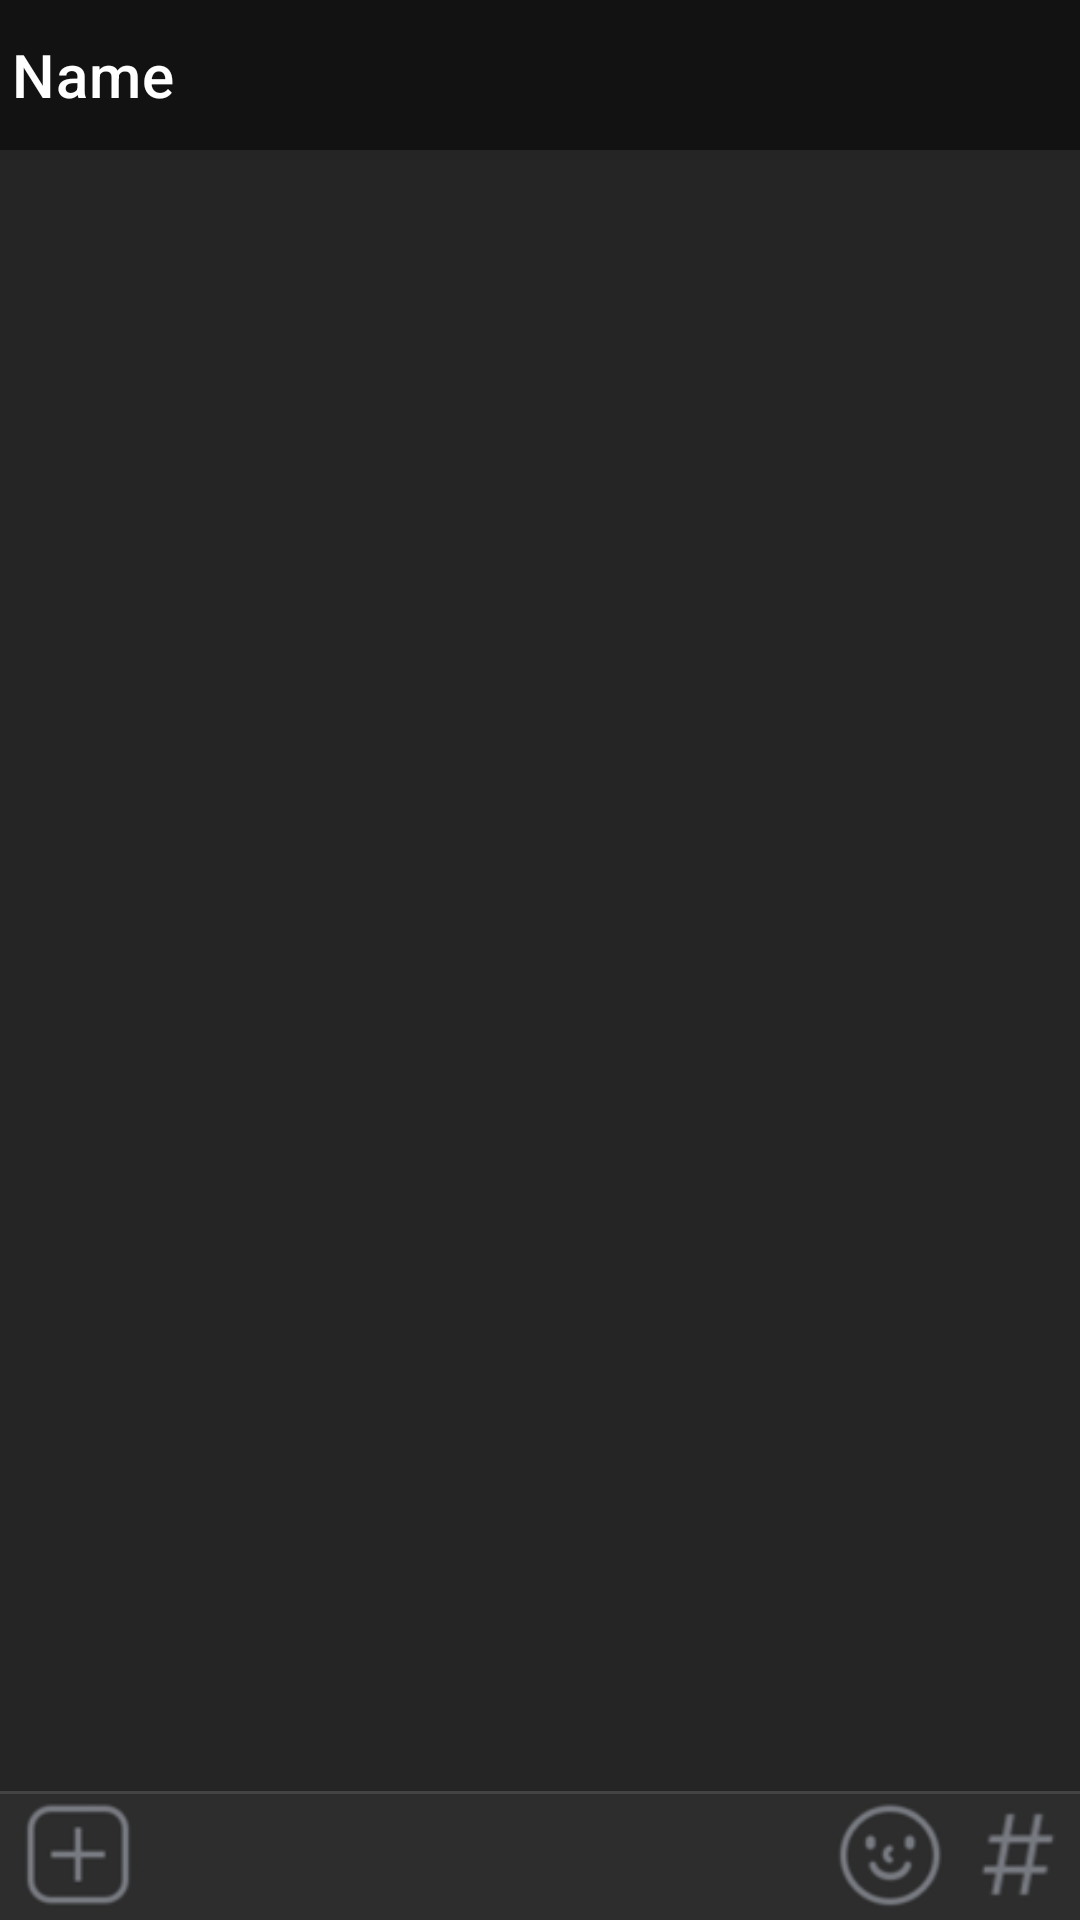

Named icons in this screenshot (1080 x 1920) and their centers, [x,y]:
talk emoji: [890,1855]
talk plus: [78,1854]
talk sharp: [1018,1854]
